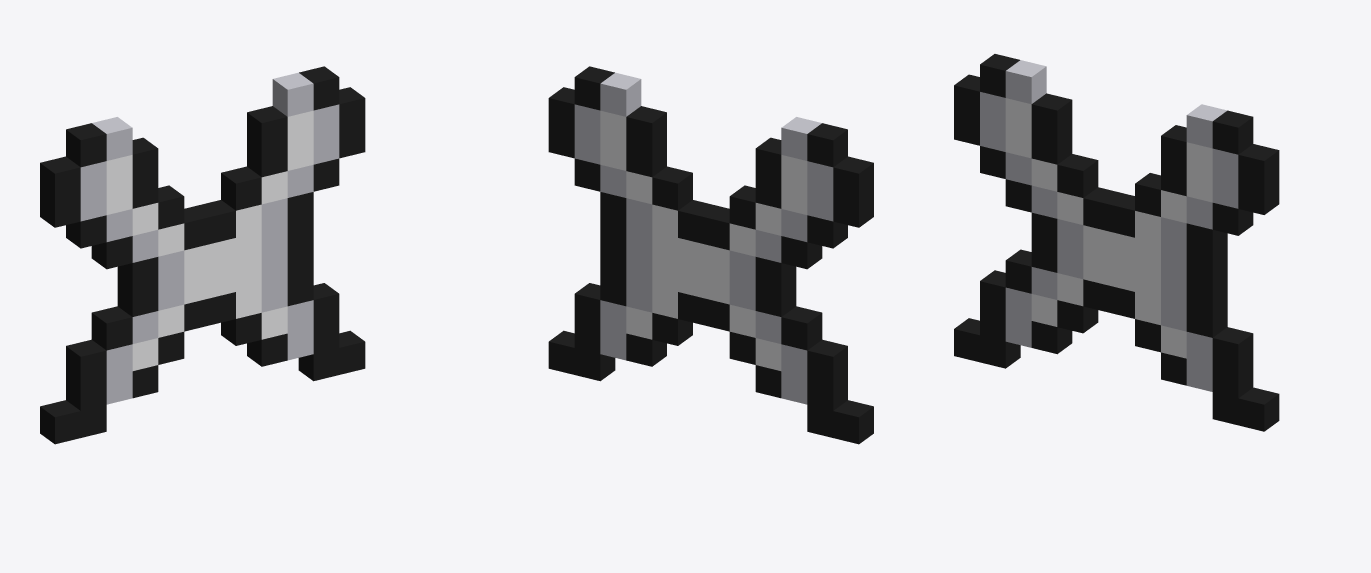
Rendered from shears.glb.
3 views of the same model, side by side, from view 1: azimuth 30°, elevation 25°; view 2: azimuth 150°, elevation 25°; view 3: azimuth 330°, elevation 25° (orthographic).
Parts seen in each view (by area): view 1: shears__mesh; view 2: shears__mesh; view 3: shears__mesh.
Part boxes in pixels (x1,y1,x2,y2): shears__mesh: (40,66,365,444); shears__mesh: (548,66,873,444); shears__mesh: (954,54,1279,431).
Size of the model in its own units: 1 by 1 by 0.0625.
Materials: 1 (1 with a texture image).
